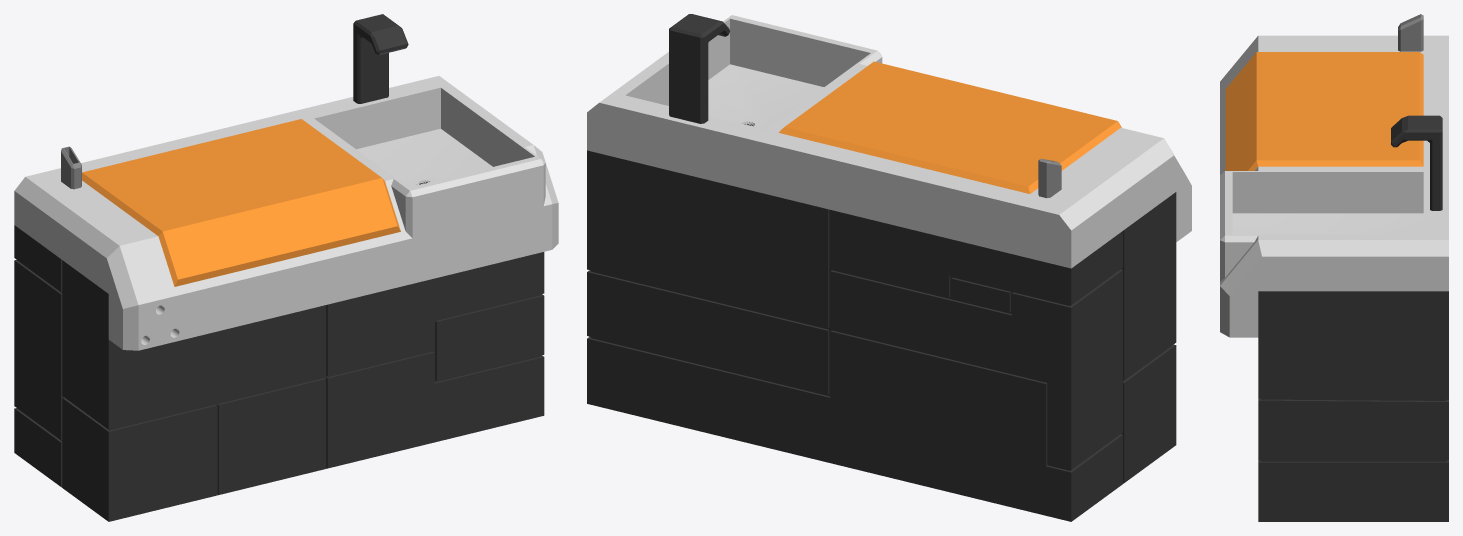
Rendered from Kitchen station.fbx.
The picture shows the model from 3 angles, left to right: view 1: azimuth 30°, elevation 25°; view 2: azimuth 150°, elevation 25°; view 3: azimuth 270°, elevation 25°; orthographic projection. The views are drawn at different scales.
Visible parts, largest first — view 1: Group1, Group4, Group3, Group5, Group6; view 2: Group1, Group4, Group3, Group5, Group6; view 3: Group1, Group4, Group3, Group5, Group6.
Part boxes in pixels (x1=…): Group1: x1=14, y1=225, x2=544, y2=521; Group4: x1=14, y1=76, x2=558, y2=350; Group3: x1=82, y1=119, x2=400, y2=286; Group5: x1=353, y1=14, x2=408, y2=103; Group6: x1=61, y1=146, x2=81, y2=189; Group1: x1=587, y1=150, x2=1176, y2=521; Group4: x1=587, y1=15, x2=1191, y2=268; Group3: x1=778, y1=61, x2=1121, y2=193; Group5: x1=669, y1=14, x2=729, y2=123; Group6: x1=1038, y1=158, x2=1061, y2=198; Group1: x1=1258, y1=291, x2=1448, y2=521; Group4: x1=1220, y1=35, x2=1448, y2=337; Group3: x1=1225, y1=52, x2=1423, y2=170; Group5: x1=1391, y1=115, x2=1442, y2=210; Group6: x1=1398, y1=14, x2=1423, y2=51.
Size of the model in its own units: 1000 by 775 by 450.
